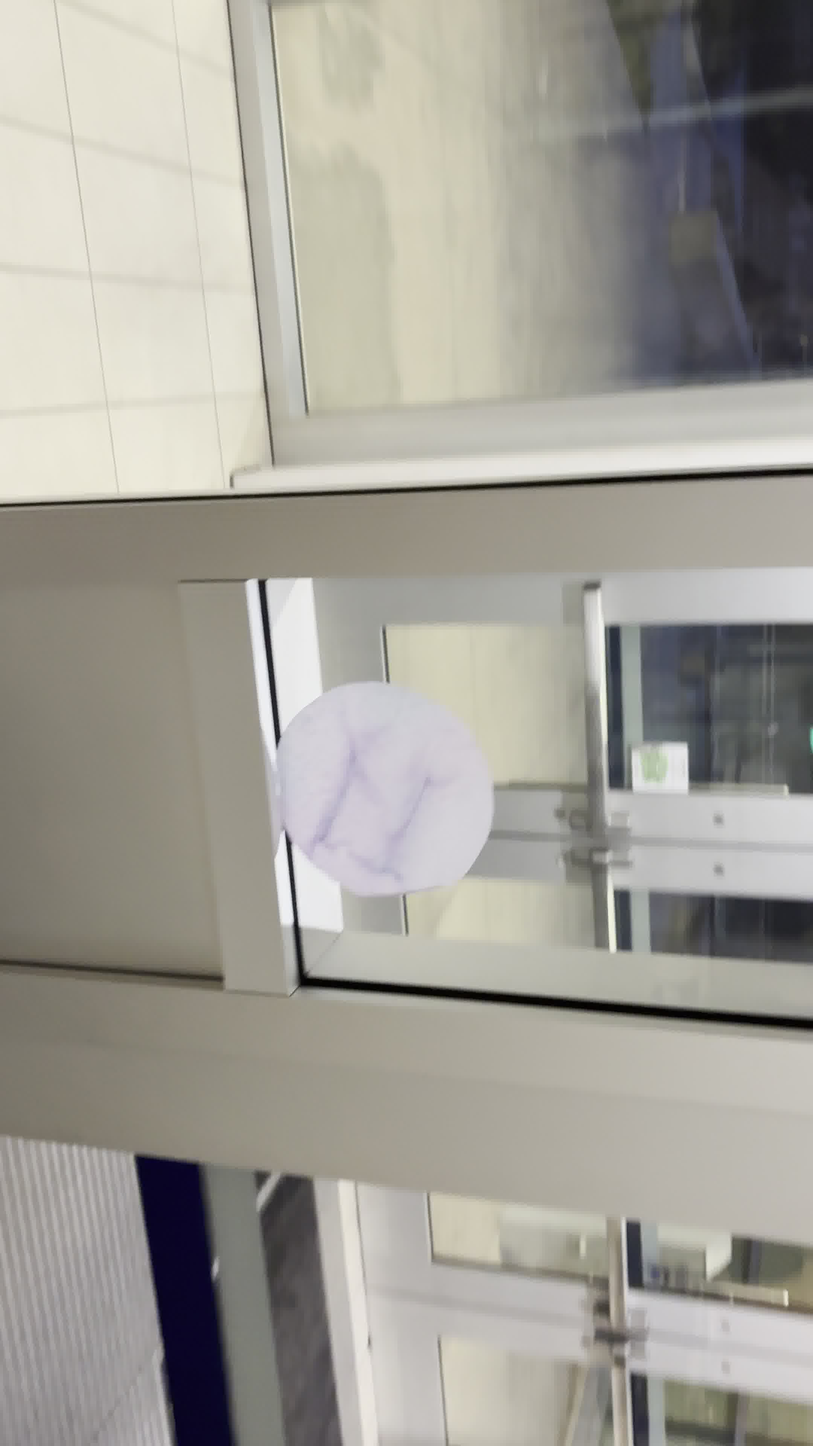Target: (271, 679, 496, 899)
